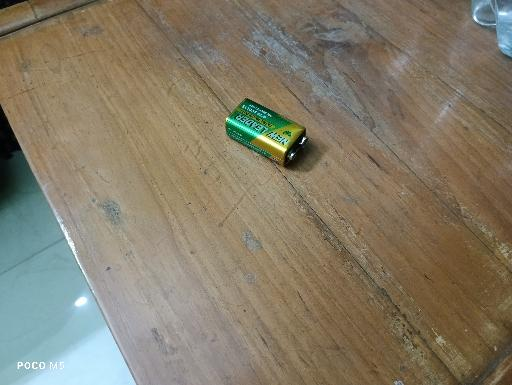Battery: (225, 97, 308, 167)
